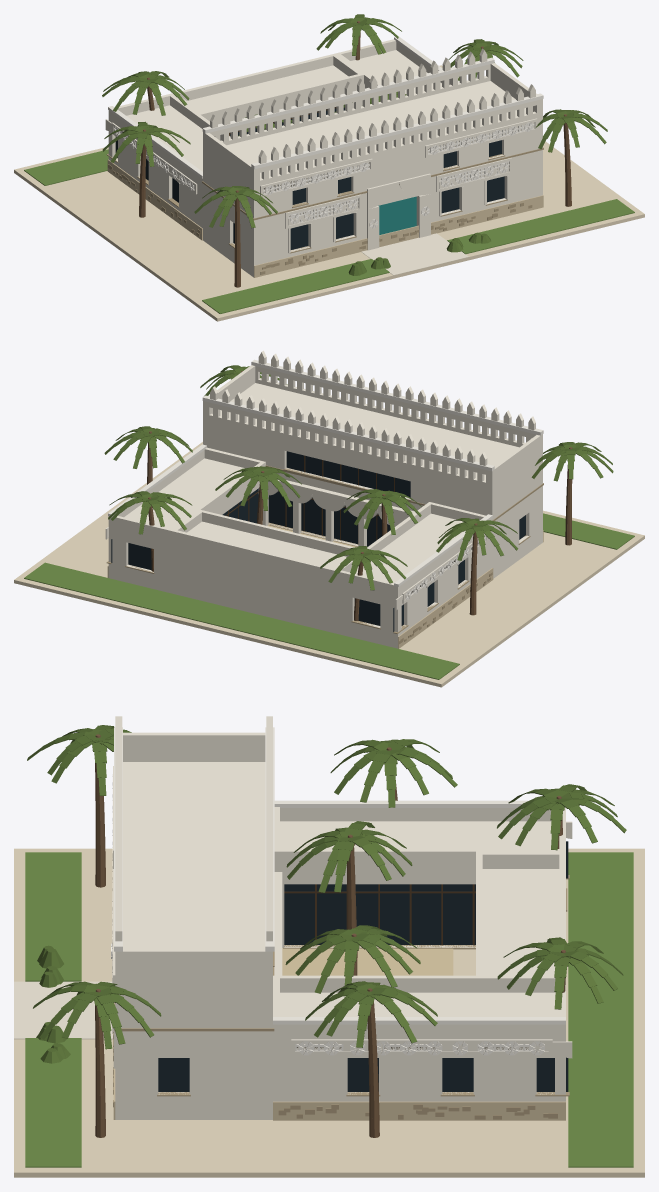
The model's file is farasani.glb.
The picture shows the model from 3 angles, top to bottom: view 1: azimuth 30°, elevation 25°; view 2: azimuth 150°, elevation 25°; view 3: azimuth 270°, elevation 25°; orthographic projection. The views are drawn at different scales.
Visible parts, largest first — view 1: Farasani_gypsum, Farasani_pave, Farasani_leaf, Farasani_lawn, Farasani_carve, Farasani_coral, Farasani_glass, Farasani_coping, Farasani_coral_d, Farasani_trunk, Farasani_teal; view 2: Farasani_gypsum, Farasani_pave, Farasani_lawn, Farasani_leaf, Farasani_glass, Farasani_carve, Farasani_trunk, Farasani_coral_d, Farasani_coral, Farasani_frame; view 3: Farasani_gypsum, Farasani_pave, Farasani_lawn, Farasani_leaf, Farasani_glass, Farasani_carve, Farasani_coral, Farasani_trunk, Farasani_court, Farasani_coping, Farasani_coral_d, Farasani_frame.
Boxes of the visible parts, x1,y1,x2,y2 form: Farasani_gypsum: (105, 39, 542, 277); Farasani_pave: (14, 65, 644, 321); Farasani_leaf: (102, 14, 607, 275); Farasani_lawn: (24, 149, 634, 313); Farasani_carve: (108, 36, 543, 228); Farasani_coral: (107, 159, 543, 277); Farasani_glass: (115, 107, 504, 249); Farasani_coping: (361, 233, 468, 275); Farasani_coral_d: (106, 147, 543, 274); Farasani_trunk: (139, 21, 571, 287); Farasani_teal: (378, 196, 416, 234); Farasani_gypsum: (105, 350, 542, 648); Farasani_pave: (14, 442, 644, 687); Farasani_lawn: (24, 513, 634, 679); Farasani_leaf: (104, 365, 613, 590); Farasani_glass: (111, 451, 525, 631); Farasani_carve: (108, 359, 543, 600); Farasani_trunk: (147, 371, 572, 620); Farasani_coral_d: (106, 465, 543, 643); Farasani_coral: (107, 530, 543, 648); Farasani_frame: (225, 455, 394, 544); Farasani_gypsum: (112, 716, 572, 1119); Farasani_pave: (14, 848, 644, 1177); Farasani_lawn: (25, 852, 633, 1167); Farasani_leaf: (27, 725, 626, 1063); Farasani_glass: (158, 841, 568, 1091); Farasani_carve: (111, 727, 565, 1055); Farasani_coral: (113, 1068, 565, 1120); Farasani_trunk: (95, 734, 565, 1137); Farasani_court: (282, 948, 453, 975); Farasani_coping: (14, 981, 112, 1039); Farasani_coral_d: (113, 875, 569, 1119); Farasani_frame: (284, 884, 475, 945).
Bounding box in the file's own units: 34 × 9.66 × 28.
